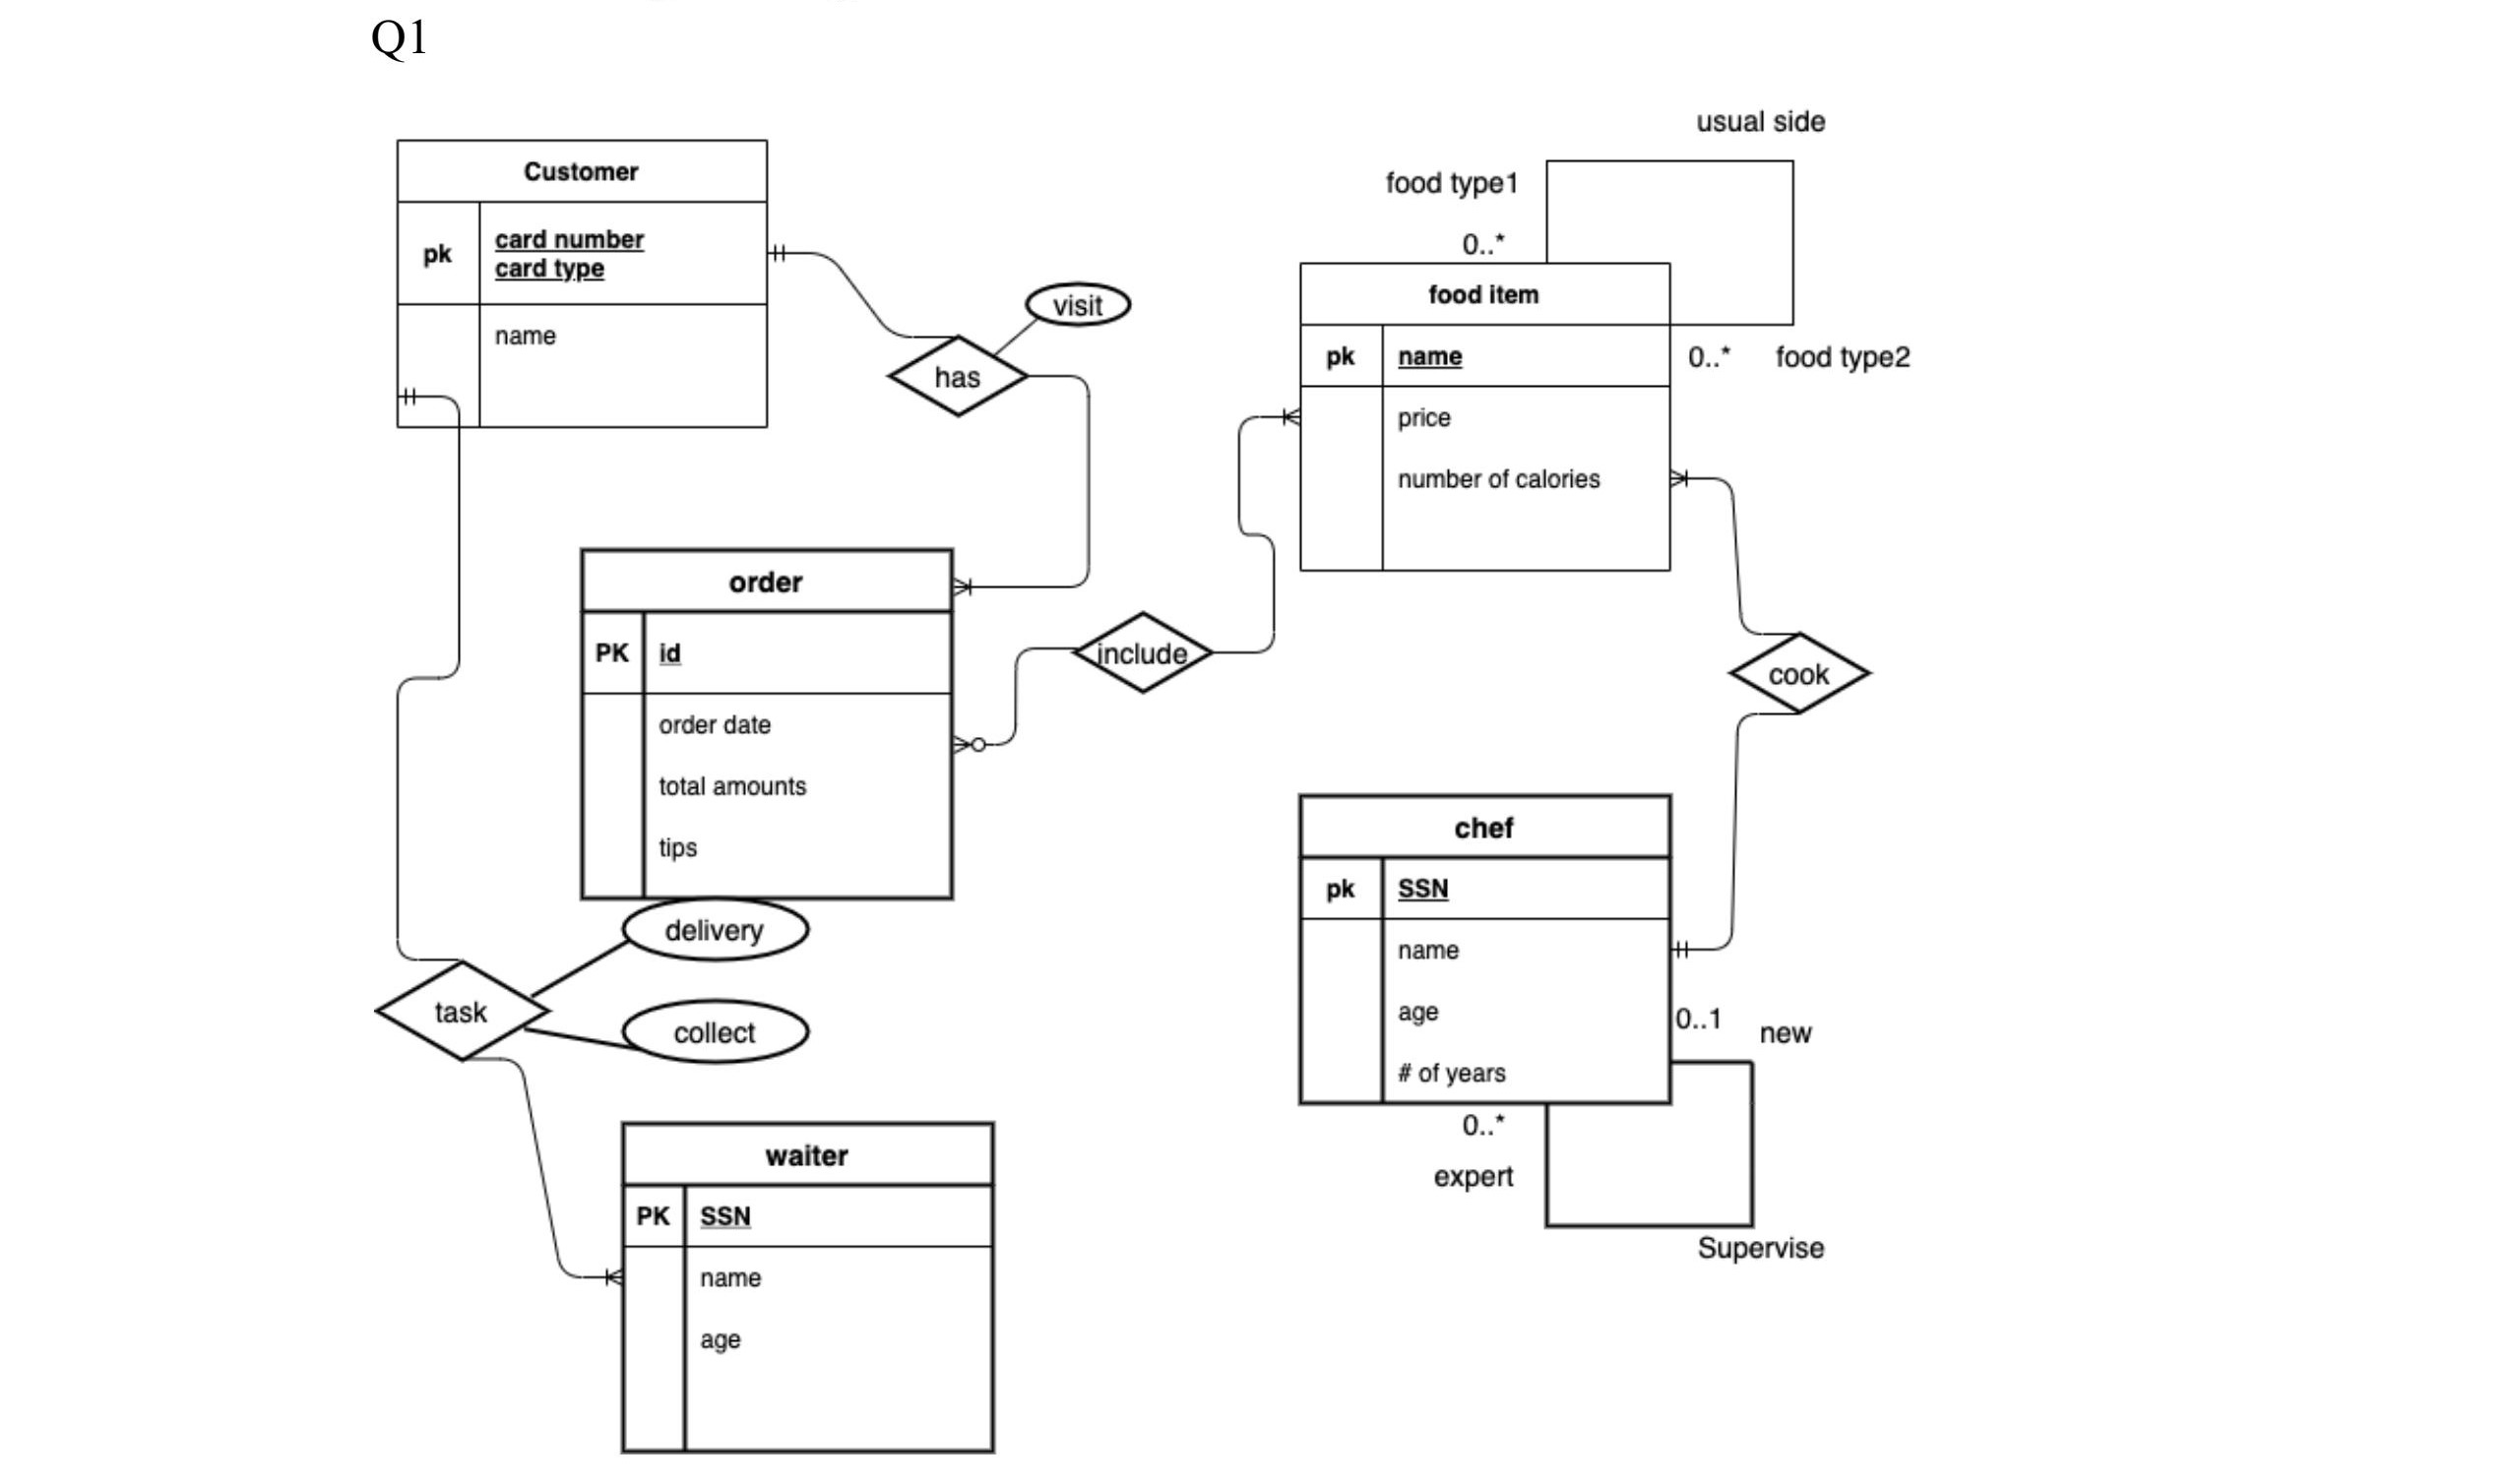Attribute: (616, 995, 811, 1069), (625, 896, 811, 965), (1021, 279, 1134, 332)
Entity: (576, 542, 957, 906), (615, 1115, 1002, 1461), (1293, 790, 1678, 1111), (1295, 258, 1676, 579), (390, 136, 775, 435)
Relationship: (369, 963, 555, 1064), (883, 334, 1032, 420), (1729, 631, 1871, 719), (1070, 610, 1210, 696)
